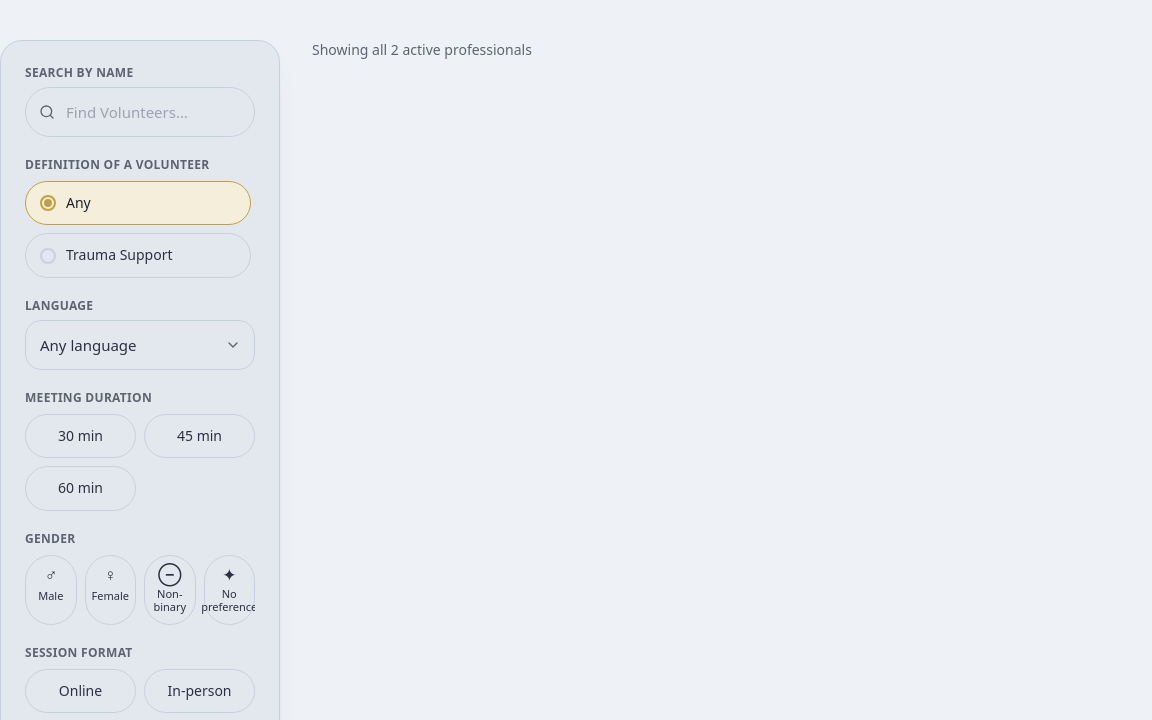
Scenario: TherapistsDirectory › shows an empty state when no professional matches the filters
Type "nonexistent-name" into the field with placeholder "Find Volunteers…". click: (140, 112)
box: [25, 87, 255, 137]
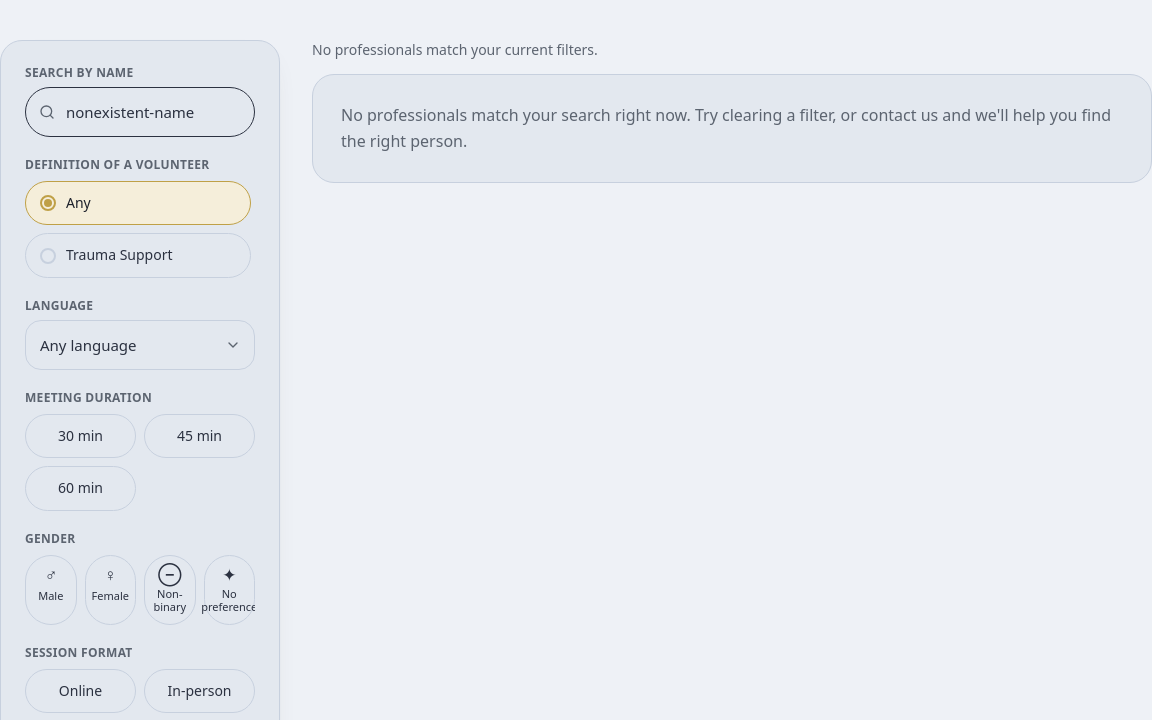
Check: the text "No professionals match your current filters." is shown, box [312, 40, 598, 59]
Check: the text "No professionals match your search right now" is shown, box [341, 104, 1111, 152]
